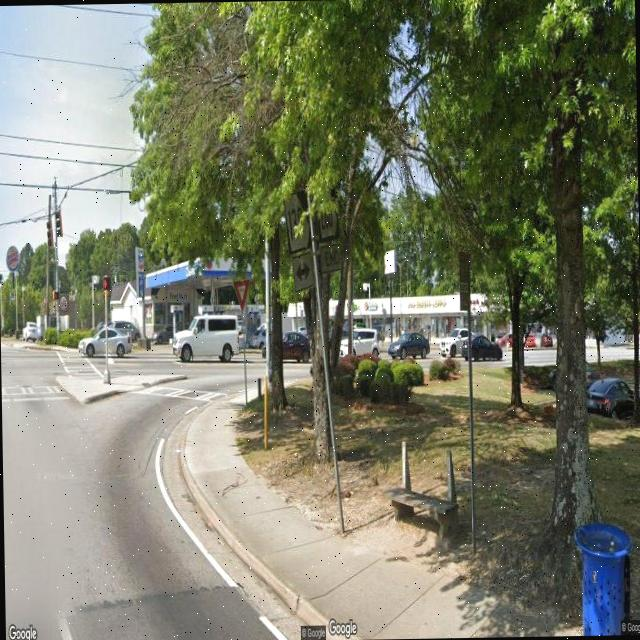seating: (384, 436, 461, 546), (574, 518, 633, 634)
trash_can: (574, 517, 632, 635)
